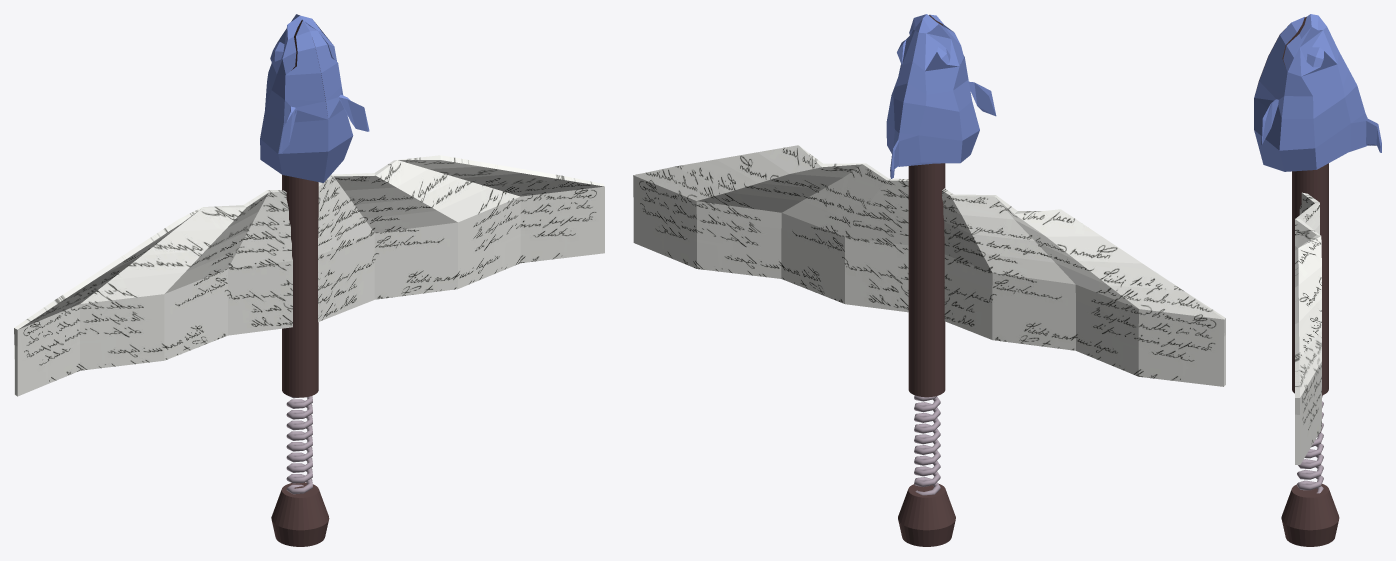
The model's file is FreeTheFish.fbx.
The picture shows the model from 3 angles, left to right: view 1: azimuth 30°, elevation 25°; view 2: azimuth 150°, elevation 25°; view 3: azimuth 270°, elevation 25°; orthographic projection.
Visible parts, largest first — view 1: Plane.001, Circle.003, Cylinder.002, Circle.002; view 2: Plane.001, Circle.003, Cylinder.002, Circle.002; view 3: Circle.003, Plane.001, Cylinder.002, Circle.002.
Part boxes in pixels (x1,y1,x2,y2): Plane.001: (14, 155, 604, 396); Circle.003: (260, 14, 369, 397); Cylinder.002: (271, 482, 329, 546); Circle.002: (286, 396, 312, 494); Plane.001: (633, 145, 1225, 386); Circle.003: (886, 14, 996, 397); Cylinder.002: (898, 483, 955, 546); Circle.002: (914, 395, 940, 495); Circle.003: (1254, 14, 1381, 395); Plane.001: (1295, 192, 1321, 464); Cylinder.002: (1281, 484, 1339, 546); Circle.002: (1297, 395, 1323, 493).
Size of the model in its own units: 2128 by 1797 by 399.
